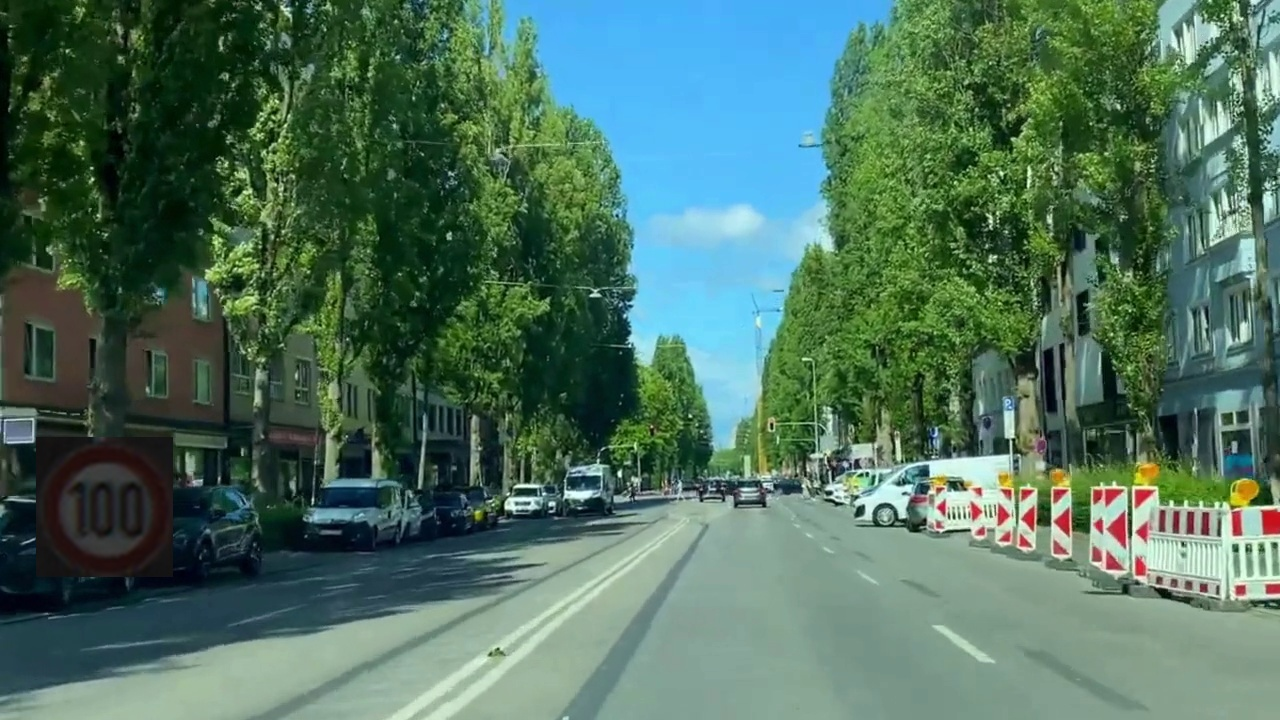Speed 100: (36, 437, 173, 577)
